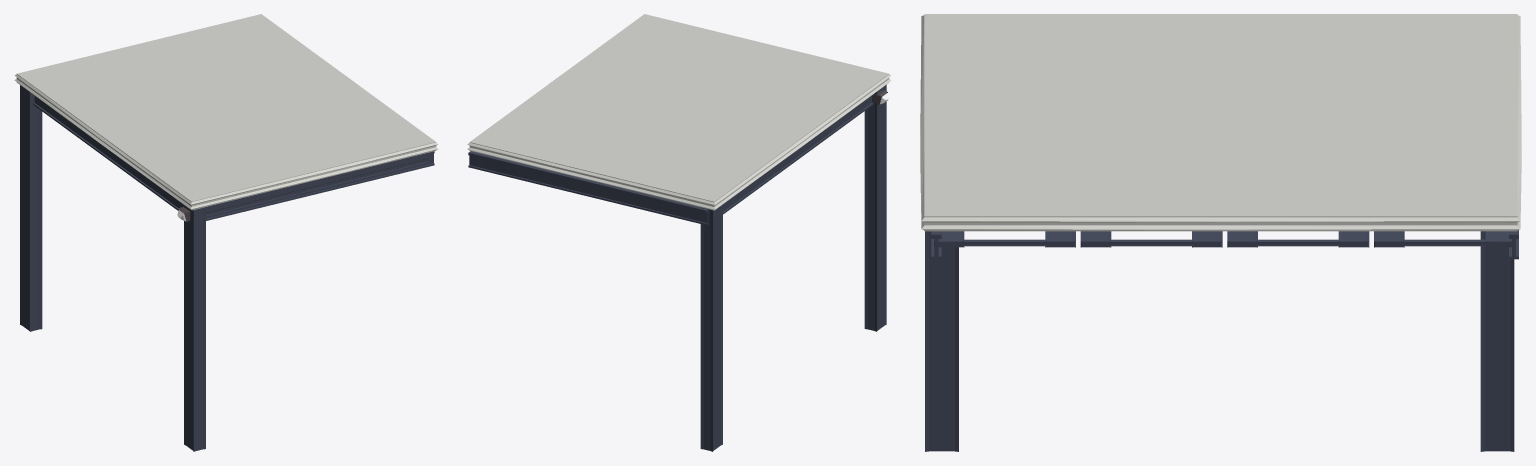
The model's file is SM_template_exterior_pipe.fbx.
The picture shows the model from 3 angles, left to right: view 1: azimuth 30°, elevation 25°; view 2: azimuth 150°, elevation 25°; view 3: azimuth 270°, elevation 25°; orthographic projection. The views are drawn at different scales.
Visible parts, largest first — view 1: template_exterior_pipe; view 2: template_exterior_pipe; view 3: template_exterior_pipe.
Part boxes in pixels (left/top/right/bottom): template_exterior_pipe: left=14, top=14, right=438, bottom=451; template_exterior_pipe: left=467, top=14, right=891, bottom=451; template_exterior_pipe: left=920, top=14, right=1521, bottom=451.
Size of the model in its own units: 1208 by 1149 by 1470.
